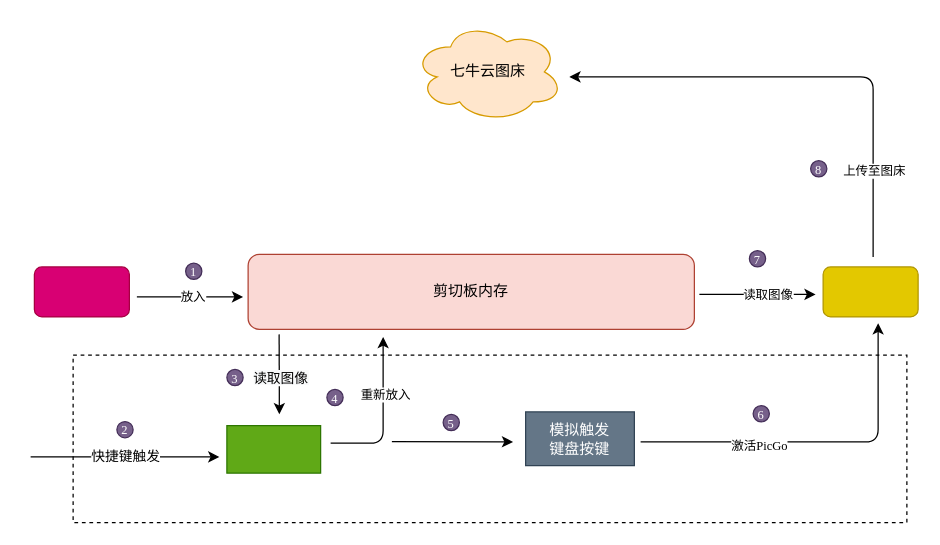
Some shapes in this 940 by 545 pixel diagram are drawn without their labels. The shapes that lost their labels are listed below. From the top down, each one's centre as x and y in pixels, then its label:
At (81,291): "Snipaste".
At (870,291): "PicGo".
At (273,448): "加水印".
